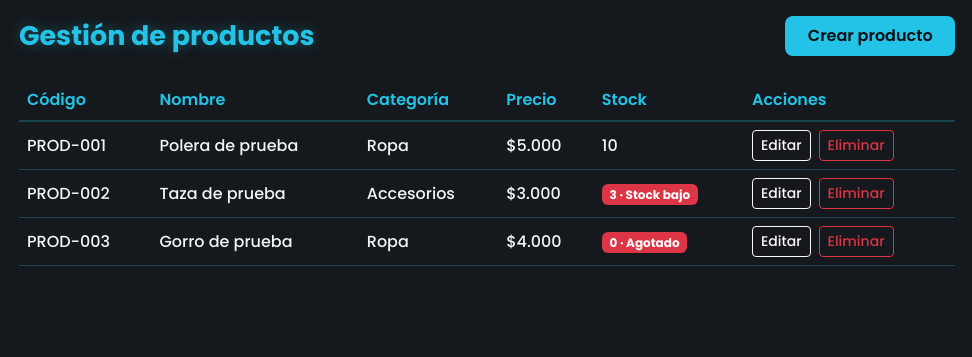
Test: PanelProductos › muestra el mensaje de eliminación fallida para BLOQUEO_NO_DISPONIBLE
This screenshot has width=972, height=357.
Click the button "Eliminar" in the row of "PROD-001". click: [856, 146]
box: [819, 130, 894, 161]
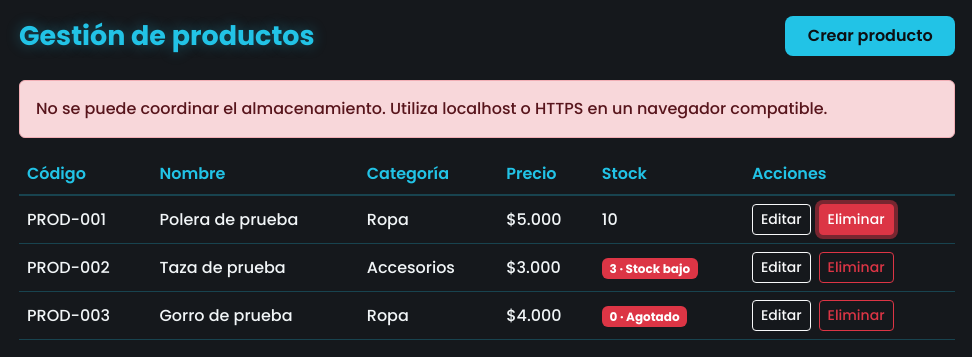
Expected: the text "Polera de prueba" is shown, [152, 195, 359, 244]
Now the message shows "No se puede coordinar el almacenamiento. Utiliza localhost o HTTPS en un navegador compatible.", box [36, 97, 828, 120]
